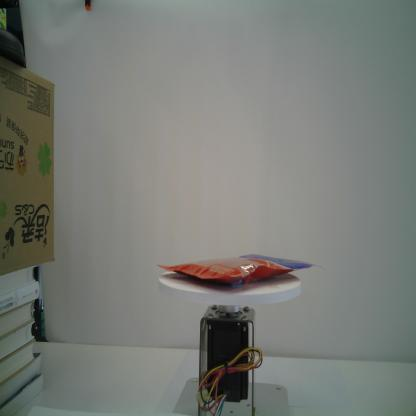Dried Fruit: (156, 253, 328, 290)
